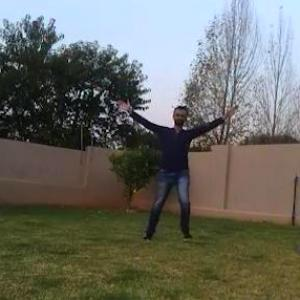takeoff: (110, 92, 226, 245)
